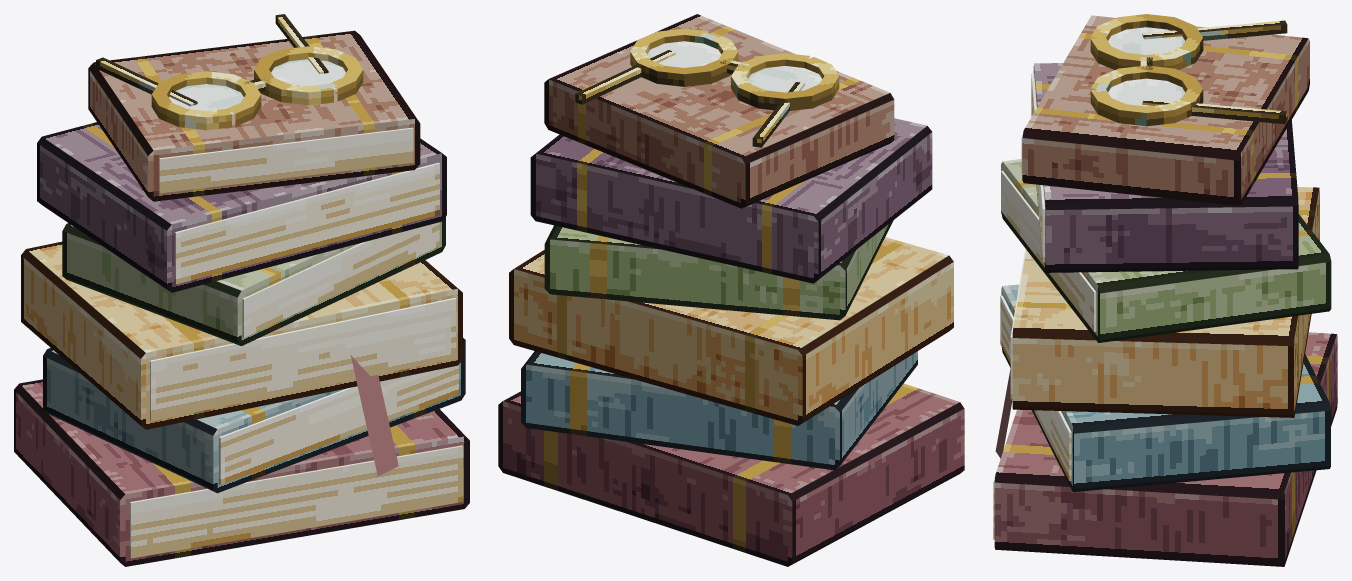
The model's file is books.glb.
3 renders of one model, left to right at view 1: azimuth 30°, elevation 25°; view 2: azimuth 150°, elevation 25°; view 3: azimuth 270°, elevation 25°, orthographic. The views are drawn at different scales.
Parts seen in each view (by area): view 1: cover5, cover2, cover0, cover4, pages0, pages2, pages4, cover1, cover3, pages1, pages5, pages3 (+7 smaller); view 2: cover2, cover0, cover4, cover5, cover1, cover3, lens-1, lens1, glass-1, glass1, temple1, temple-1; view 3: cover5, cover0, cover2, cover4, cover1, cover3, lens1, lens-1, pages3, pages1, glass1, temple1 (+4 smaller).
Part boxes in pixels (<box>): cover5: <box>88,30,420,201</box>; cover2: <box>21,241,462,429</box>; cover0: <box>14,379,469,566</box>; cover4: <box>37,122,446,292</box>; pages0: <box>130,445,463,558</box>; pages2: <box>150,298,456,421</box>; pages4: <box>174,162,439,284</box>; cover1: <box>43,338,465,493</box>; cover3: <box>62,217,445,346</box>; pages1: <box>219,365,458,484</box>; pages5: <box>159,127,413,193</box>; pages3: <box>242,222,439,337</box>; cover2: <box>509,237,953,425</box>; cover0: <box>498,383,964,566</box>; cover4: <box>530,118,932,283</box>; cover5: <box>544,14,894,208</box>; cover1: <box>521,351,917,470</box>; cover3: <box>544,220,893,320</box>; lens-1: <box>731,53,839,110</box>; lens1: <box>630,28,738,86</box>; glass-1: <box>748,66,822,92</box>; glass1: <box>647,41,721,67</box>; temple1: <box>575,50,675,104</box>; temple-1: <box>752,82,804,147</box>; cover5: <box>1022,15,1309,205</box>; cover0: <box>994,332,1337,566</box>; cover2: <box>1012,187,1319,417</box>; cover4: <box>1033,63,1298,272</box>; cover1: <box>1001,284,1330,491</box>; cover3: <box>1001,159,1331,342</box>; lens1: <box>1090,65,1203,126</box>; lens-1: <box>1090,14,1203,69</box>; pages3: <box>1001,170,1096,331</box>; pages1: <box>1000,295,1071,480</box>; glass1: <box>1108,78,1185,106</box>; temple1: <box>1142,98,1287,124</box>.
Size of the model in its own units: 0.5476 by 0.5938 by 0.4427.
Materials: 2 (2 with a texture image).
